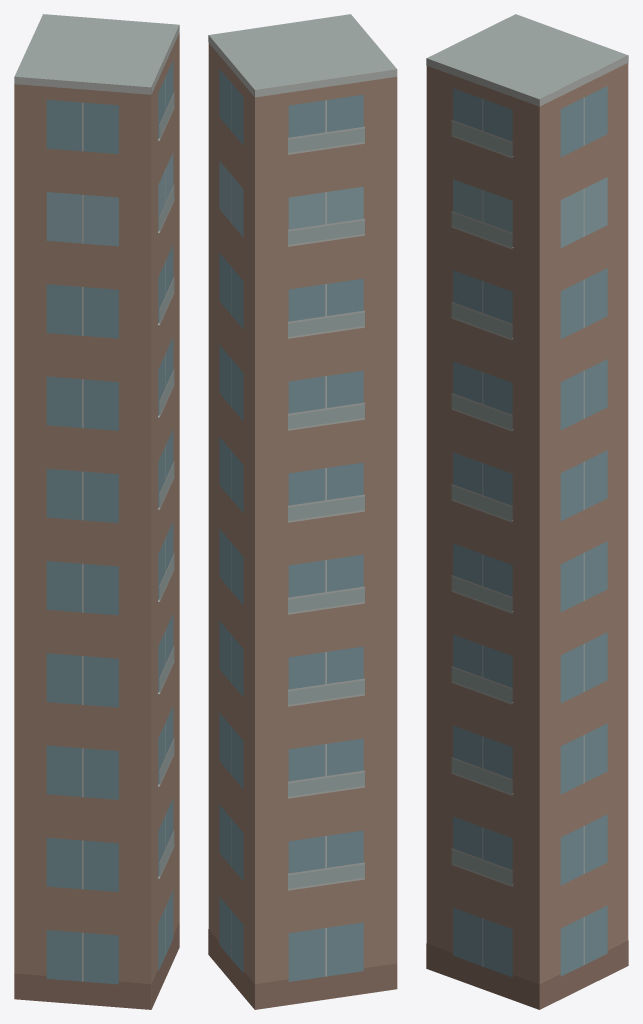
The model's file is survey-upis-32840816.glb.
3 renders of one model, left to right at view 1: azimuth 30°, elevation 25°; view 2: azimuth 150°, elevation 25°; view 3: azimuth 270°, elevation 25°, orthographic.
Parts seen in each view (by area): view 1: survey-upis-32840816.tmp; view 2: survey-upis-32840816.tmp; view 3: survey-upis-32840816.tmp.
Boxes of the visible parts, box(x1,y1,x2,y2) form: survey-upis-32840816.tmp: box(14, 14, 179, 1009); survey-upis-32840816.tmp: box(208, 14, 397, 1009); survey-upis-32840816.tmp: box(426, 14, 628, 1009).
Bounding box in the file's own units: 6.14 × 30.5 × 6.14.
